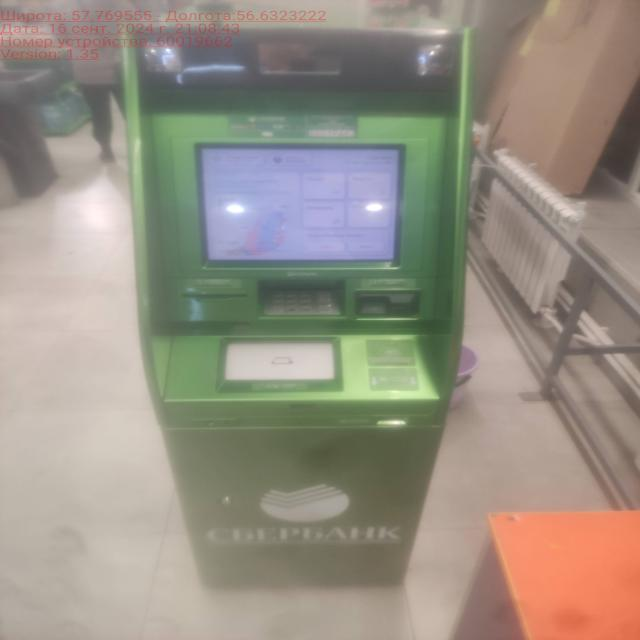bank: (115, 16, 476, 597)
